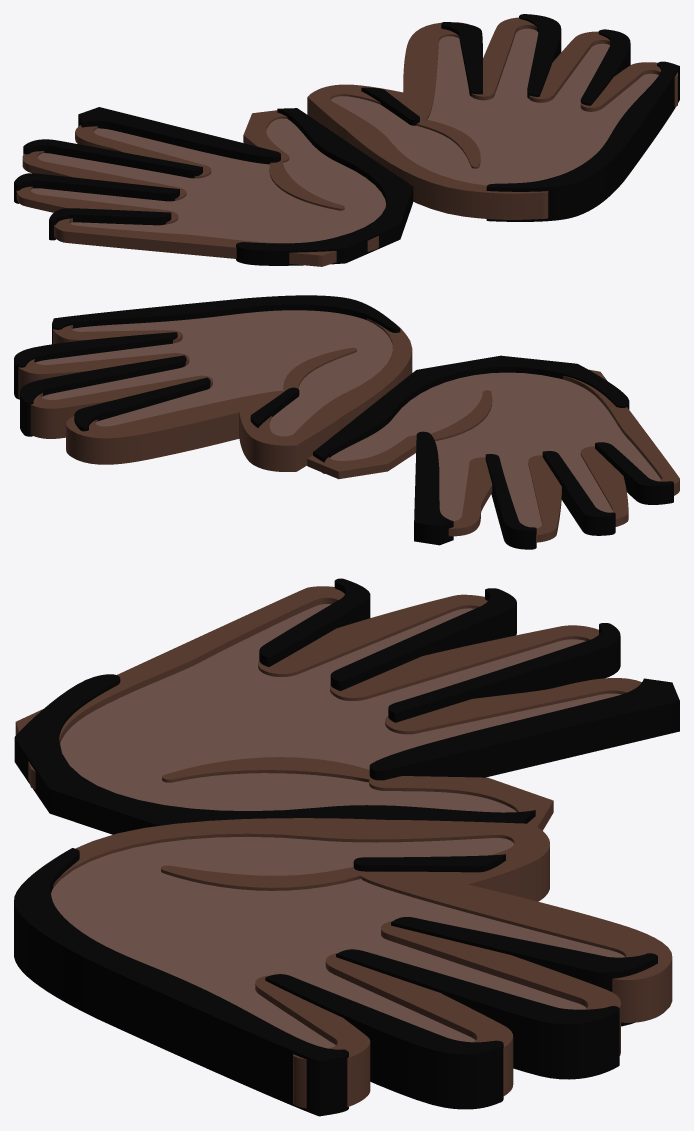
Rendered from emoji_u1f450_1f3ff.glb.
The picture shows the model from 3 angles, top to bottom: view 1: azimuth 30°, elevation 25°; view 2: azimuth 150°, elevation 25°; view 3: azimuth 270°, elevation 25°; orthographic projection. The views are drawn at different scales.
Parts seen in each view (by area): view 1: emoji_u1f450_1f3ff; view 2: emoji_u1f450_1f3ff; view 3: emoji_u1f450_1f3ff.
Part boxes in pixels (bbox=[...]): emoji_u1f450_1f3ff: bbox=[14, 14, 679, 266]; emoji_u1f450_1f3ff: bbox=[14, 295, 679, 549]; emoji_u1f450_1f3ff: bbox=[14, 578, 679, 1116].
Size of the model in its own units: 0.0347 by 0.0018 by 0.0197.
